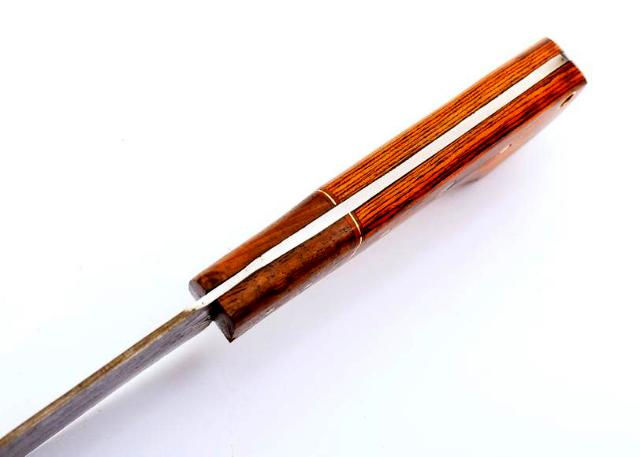ice pick: (1, 38, 592, 456)
